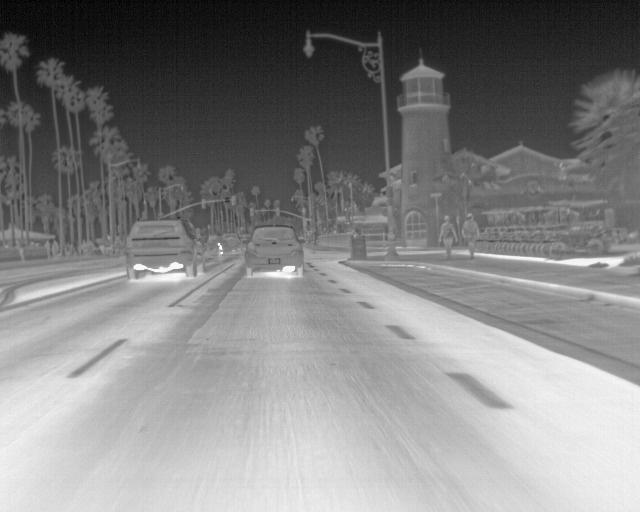bicycle: (123, 216, 201, 280), (243, 225, 304, 276), (220, 232, 242, 255)
empty: (437, 214, 458, 259), (460, 211, 479, 260), (49, 238, 62, 258)
